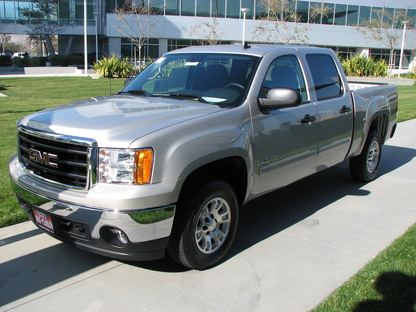truck: (7, 41, 398, 270)
